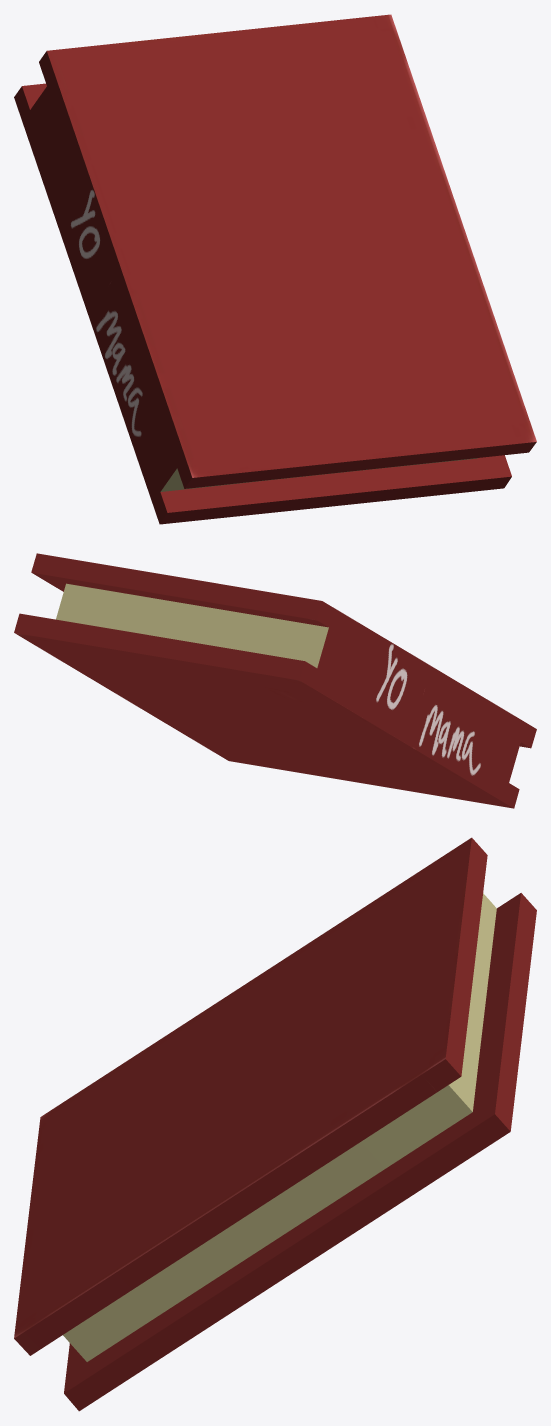
The model's file is red.fbx.
3 renders of one model, top to bottom at view 1: azimuth 30°, elevation 25°; view 2: azimuth 150°, elevation 25°; view 3: azimuth 270°, elevation 25°, orthographic. The views are drawn at different scales.
Parts seen in each view (by area): view 1: polySurface9; view 2: polySurface9; view 3: polySurface9.
Part boxes in pixels (<box>): polySurface9: <box>14,14,536,524</box>; polySurface9: <box>14,553,536,808</box>; polySurface9: <box>14,837,536,1411</box>.
Size of the model in its own units: 7.05 by 6.62 by 7.45.
